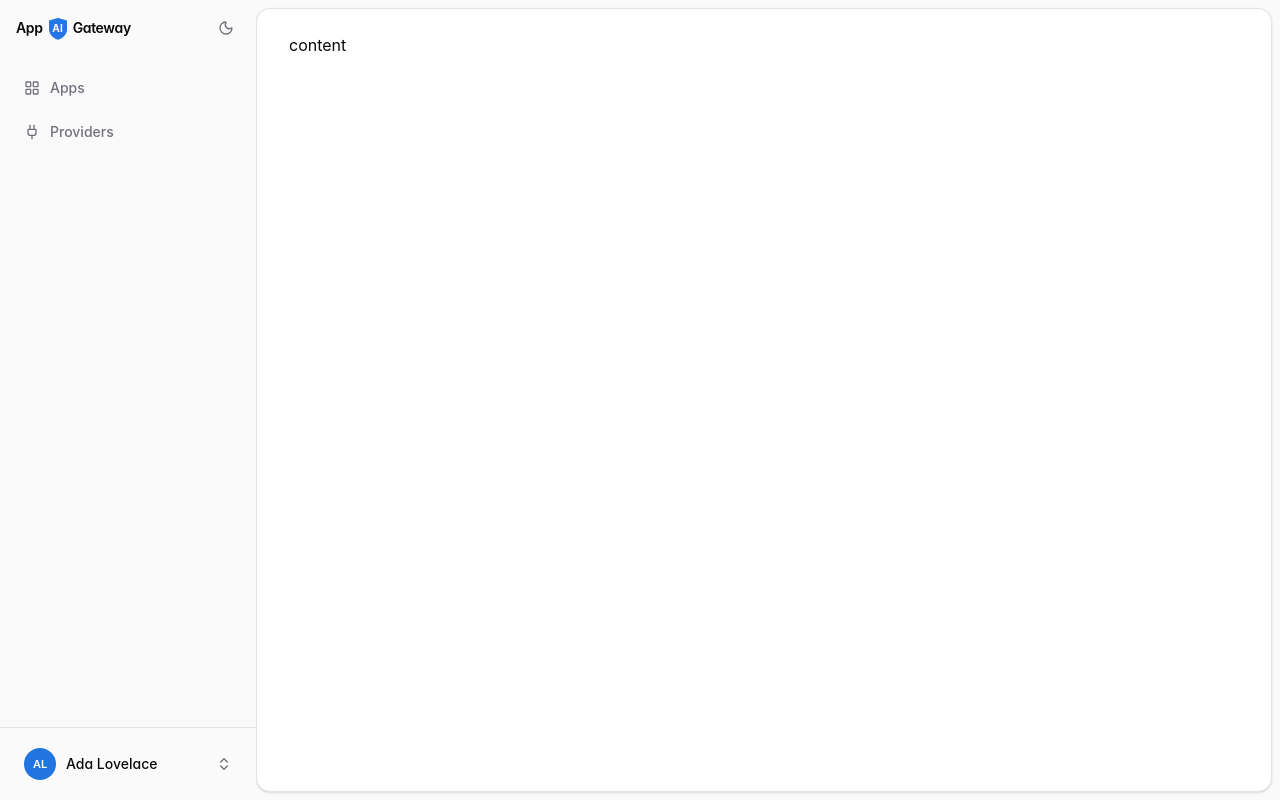
Test: AppShell navigation › moves account and organization administration into the user menu
Expected: the menu item "access" is not shown
What coordinates should you click on to do the following:
click the button "AL Ada Lovelace"
I would click on:
 (128, 764)
Its box is [12,740,244,788].
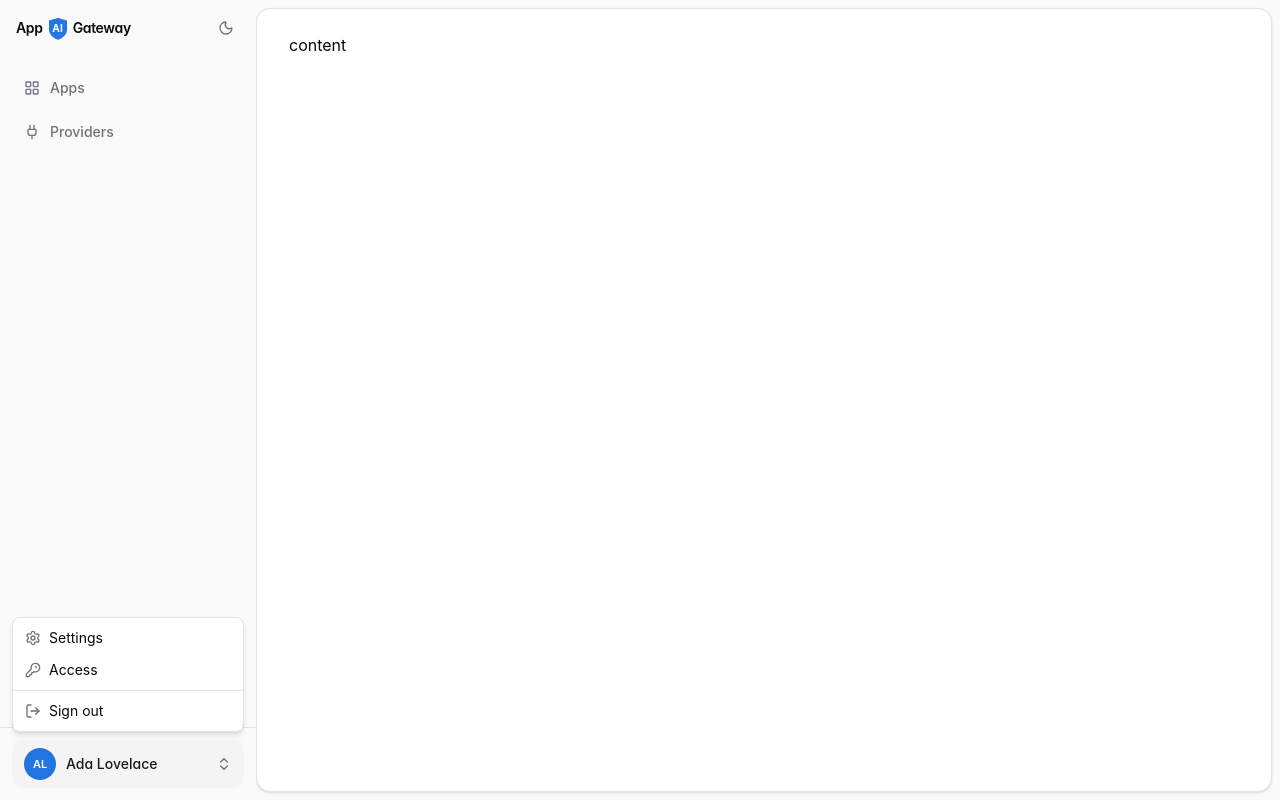
Result: the menu item "Settings" is shown at [25,629,103,646]
Result: the menu item "Access" is shown at [25,661,98,678]
Result: the menu item "Sign out" is shown at [25,702,103,719]
